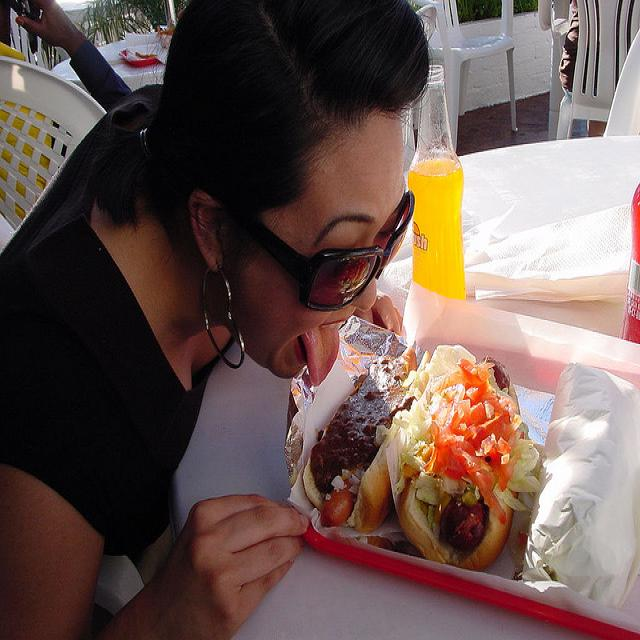chair: (2, 58, 107, 253), (552, 1, 639, 136), (601, 27, 640, 142)
dining table: (180, 142, 640, 630), (48, 40, 172, 94)
